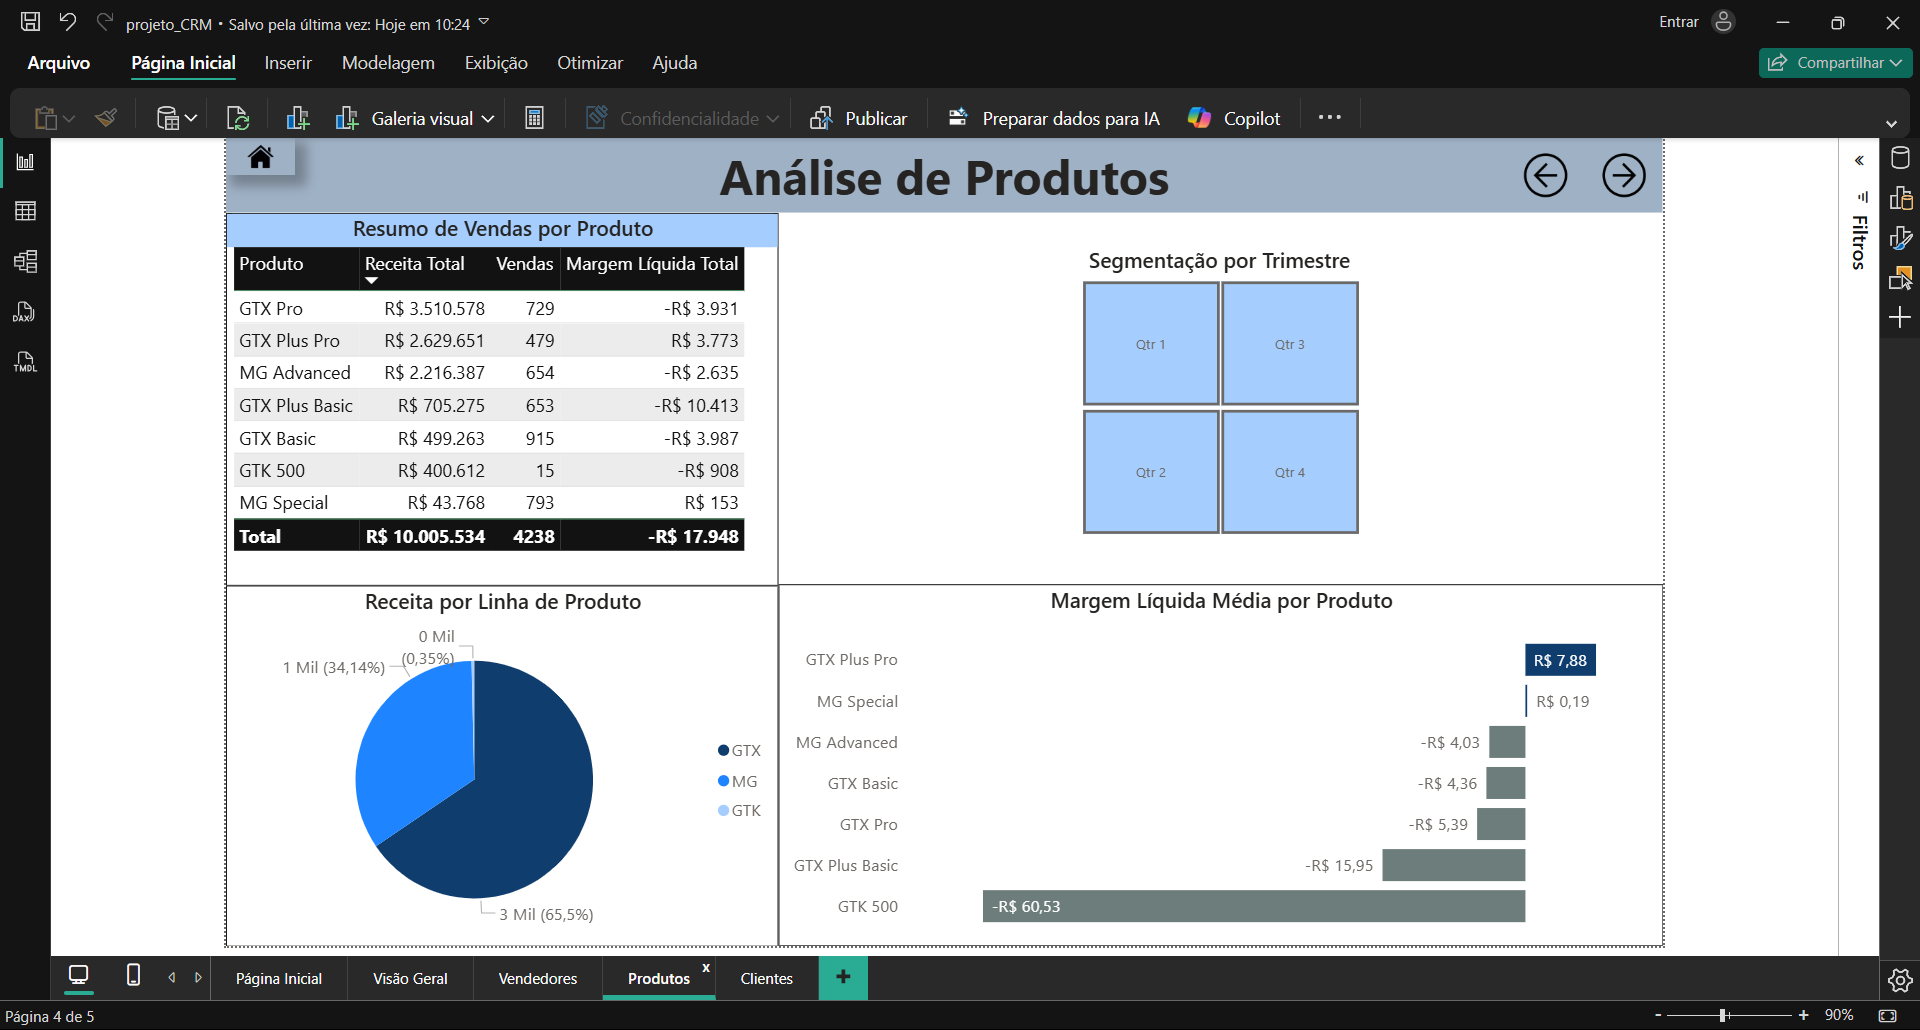

What the dashboard file says about the page in this screenshot:
{"tool":"powerbi","page":{"name":"Produtos","canvas":[1280,720],"ordinal":3},"visuals":[{"type":"tableEx","title":"Resumo de Vendas por Produto","fields":{"Values":["fProcessos.product","Medidas.Receita_Total","Medidas.Vendas_Ganhas","Medidas.Margem_Liquida"]},"box":[0,66.4,492,331.8],"z":0},{"type":"clusteredBarChart","title":"Margem Líquida Média por Produto","fields":{"Category":["fProcessos.product"],"Y":["Medidas.Margem_Liquida_Media"]},"box":[492,397.5,787.7,322.7],"z":1000},{"type":"pieChart","title":"Receita por Linha de Produto","fields":{"Y":["Medidas.Vendas_Ganhas"],"Category":["dProdutos.series"]},"box":[0,398.2,492,321.7],"z":2000},{"type":"slicer","title":"Segmentação por Trimestre","fields":{"Values":["fProcessos.close_date.Variation.Hierarquia de datas.Trimestre"]},"box":[737.4,95.7,295.7,263.8],"z":3000},{"type":"textbox","box":[0,0,1279.5,66.6],"z":3001},{"type":"image","box":[0,0,61.4,33.1],"z":3002},{"type":"image","box":[1211,0,68.7,66.3],"z":3003},{"type":"image","box":[1138.7,0,72.4,66.3],"z":3004}]}

Visuals, with their boxes on the page's 1280x720 design canvas (x1, y1, x2, y2). These are canvas units, not pixel positions in the 1920x1030 screenshot, which may show the page scaled, cropped or inside an application window:
"Resumo de Vendas por Produto" tableEx: (x1=0, y1=66, x2=492, y2=398)
"Margem Líquida Média por Produto" clusteredBarChart: (x1=492, y1=398, x2=1280, y2=720)
"Receita por Linha de Produto" pieChart: (x1=0, y1=398, x2=492, y2=720)
"Segmentação por Trimestre" slicer: (x1=737, y1=96, x2=1033, y2=360)
textbox: (x1=0, y1=0, x2=1280, y2=67)
image: (x1=0, y1=0, x2=61, y2=33)
image: (x1=1211, y1=0, x2=1280, y2=66)
image: (x1=1139, y1=0, x2=1211, y2=66)
